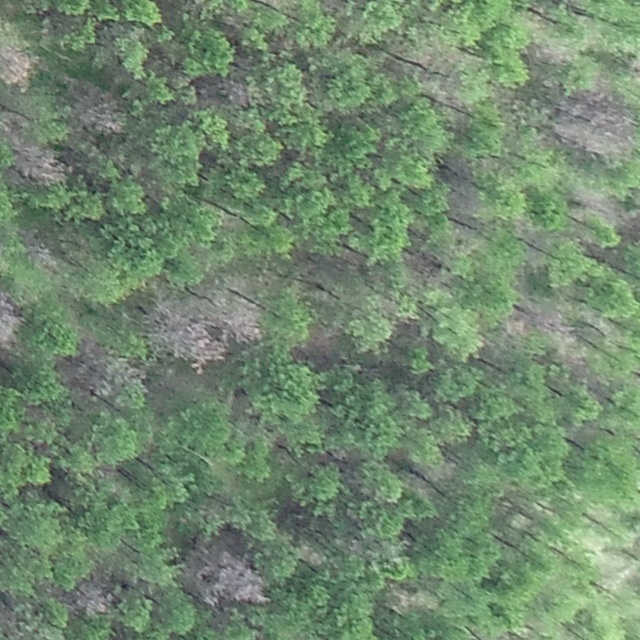unhealthy: (182, 526, 270, 610), (550, 79, 633, 160), (150, 303, 229, 373), (75, 84, 127, 137), (414, 44, 464, 97), (12, 143, 68, 185), (0, 591, 42, 640), (216, 301, 262, 342), (384, 586, 437, 614), (0, 48, 31, 91), (101, 355, 145, 385), (0, 291, 23, 347), (407, 249, 447, 280), (575, 187, 616, 217), (78, 582, 110, 617), (292, 541, 323, 571), (535, 310, 570, 336), (220, 78, 249, 109), (536, 44, 564, 63)
